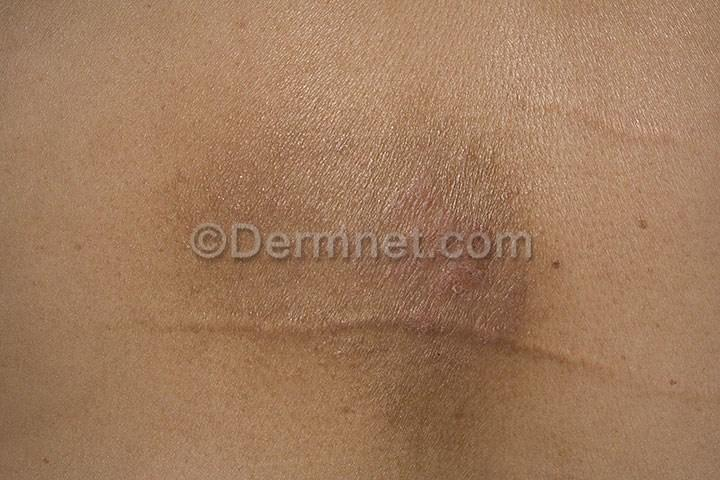Eczema: (342, 169, 533, 253), (419, 257, 518, 301), (362, 267, 429, 325)
